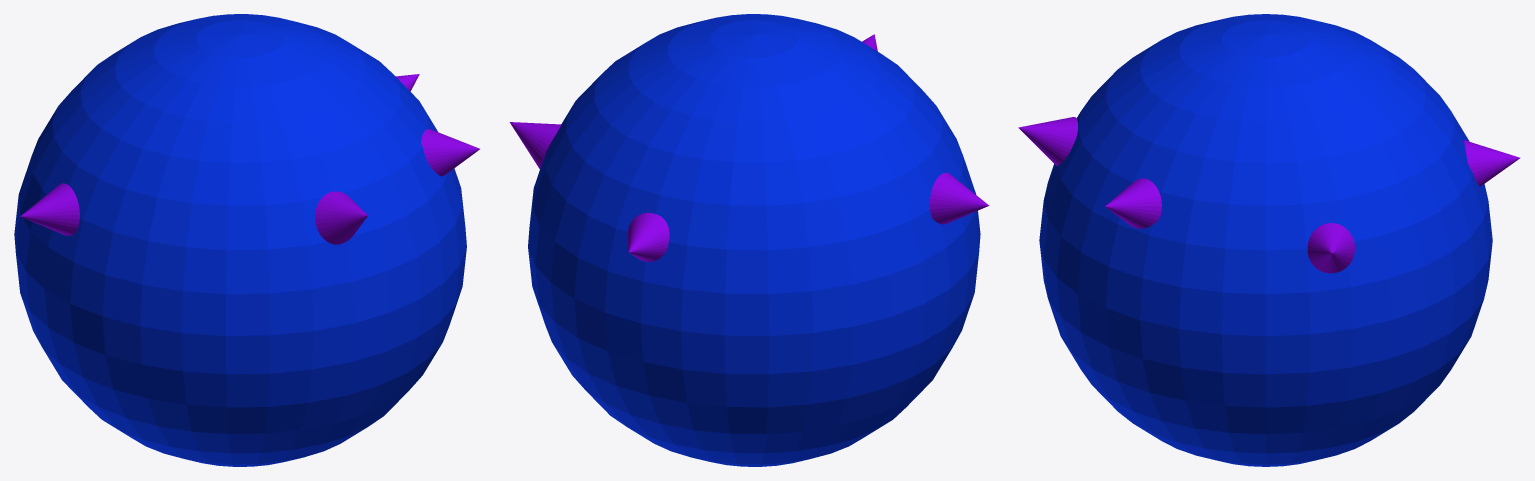
File: substract time h.fbx
3 renders of one model, left to right at view 1: azimuth 30°, elevation 25°; view 2: azimuth 150°, elevation 25°; view 3: azimuth 270°, elevation 25°, orthographic.
Parts seen in each view (by area): view 1: substract time; view 2: substract time; view 3: substract time.
Part boxes in pixels (x1=…): substract time: x1=14, y1=14, x2=479, y2=466; substract time: x1=509, y1=14, x2=989, y2=466; substract time: x1=1018, y1=14, x2=1520, y2=466.
Size of the model in its own units: 8.12 by 7.25 by 8.03.
